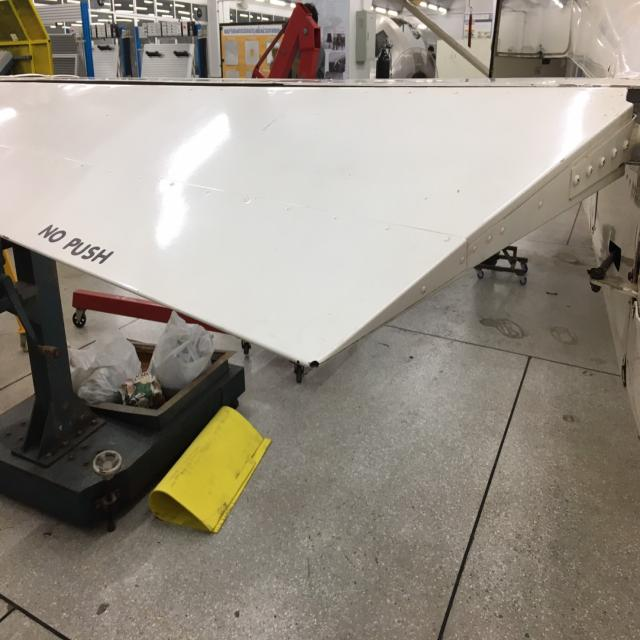Rupture: (300, 334, 330, 379)
